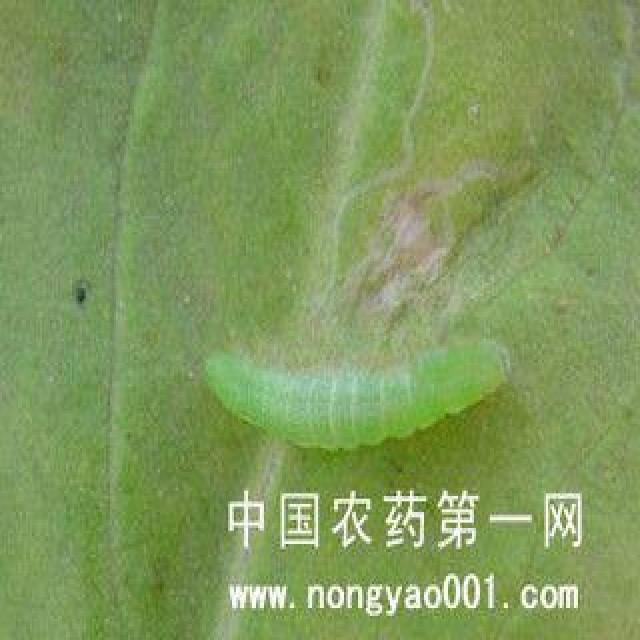armyworm: (204, 339, 528, 454)
